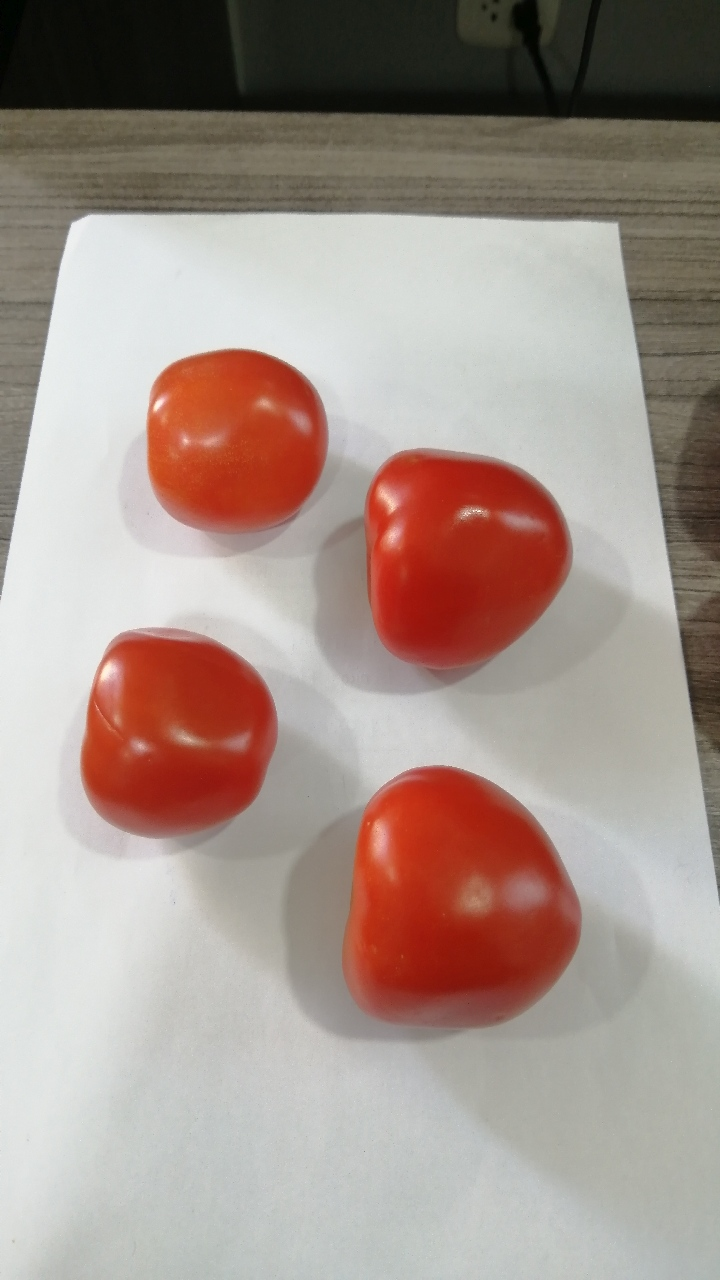tomateRojo: (329, 751, 588, 1051), (340, 402, 588, 697), (54, 600, 286, 855), (120, 322, 335, 543)
